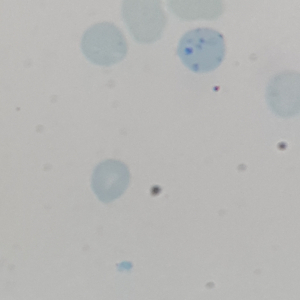aggregate reticulocyte: (174, 26, 228, 75)
erythrocyte: (89, 158, 132, 205)
punctate reticulocyte: (79, 21, 129, 68)
